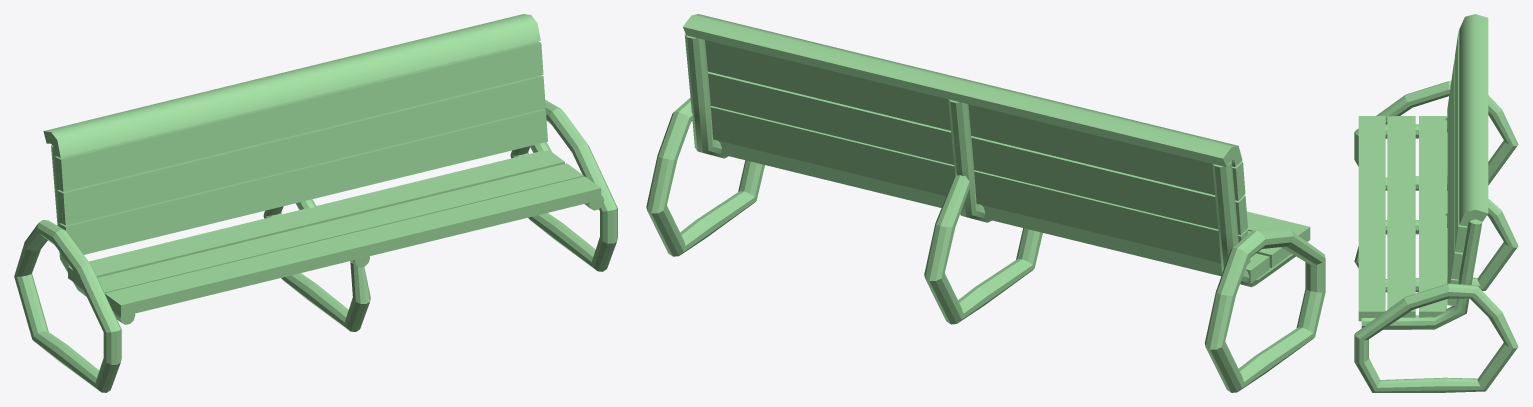
Rendered from Bench.fbx.
The picture shows the model from 3 angles, left to right: view 1: azimuth 30°, elevation 25°; view 2: azimuth 150°, elevation 25°; view 3: azimuth 270°, elevation 25°; orthographic projection. The views are drawn at different scales.
Visible parts, largest first — view 1: polySurface2; view 2: polySurface2; view 3: polySurface2.
Part boxes in pixels (bbox=[...]): polySurface2: bbox=[14, 14, 617, 392]; polySurface2: bbox=[646, 14, 1325, 392]; polySurface2: bbox=[1354, 14, 1518, 392].
Bounding box in the file's own units: 19.84 × 7.93 × 6.6.
